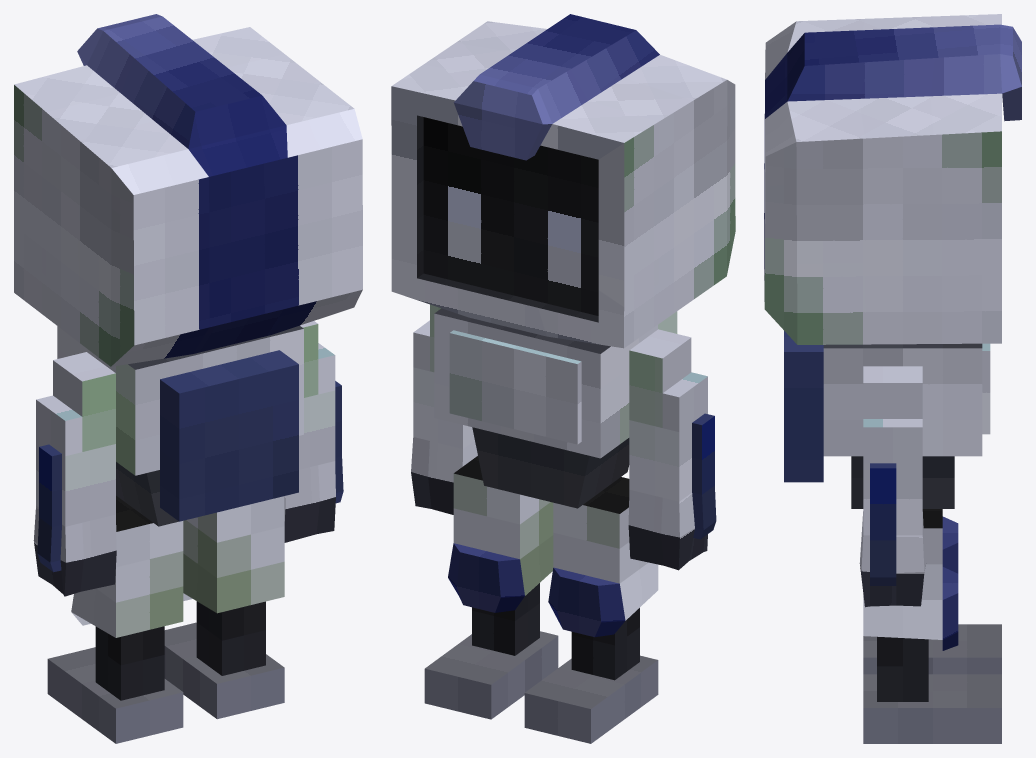
File: Ni-TZSch.gltf
3 renders of one model, left to right at view 1: azimuth 30°, elevation 25°; view 2: azimuth 150°, elevation 25°; view 3: azimuth 270°, elevation 25°, orthographic. The views are drawn at different scales.
Visible parts, largest first — view 1: head, Torso, R_Leg, L_Leg, R_Arm, L_Arm; view 2: head, Torso, R_Leg, L_Leg, R_Arm, L_Arm; view 3: head, Torso, L_Leg, L_Arm, R_Leg.
Part boxes in pixels (x1,y1,x2,y2): head: (14, 14, 362, 366); Torso: (57, 325, 303, 526); R_Leg: (47, 496, 183, 743); L_Leg: (164, 496, 284, 719); R_Arm: (33, 352, 116, 596); L_Arm: (284, 321, 343, 542); head: (391, 14, 735, 348); Torso: (434, 308, 677, 508); R_Leg: (524, 477, 658, 743); L_Leg: (424, 456, 558, 719); R_Arm: (628, 329, 716, 570); L_Arm: (411, 304, 477, 514); head: (764, 14, 1021, 344); Torso: (784, 331, 990, 508); L_Leg: (863, 509, 1001, 743); L_Arm: (859, 366, 925, 607); R_Leg: (863, 516, 1001, 674).
Bounding box in the file's own units: 0.5431 × 1.15 × 0.4062.
4 materials, 4 textured.
